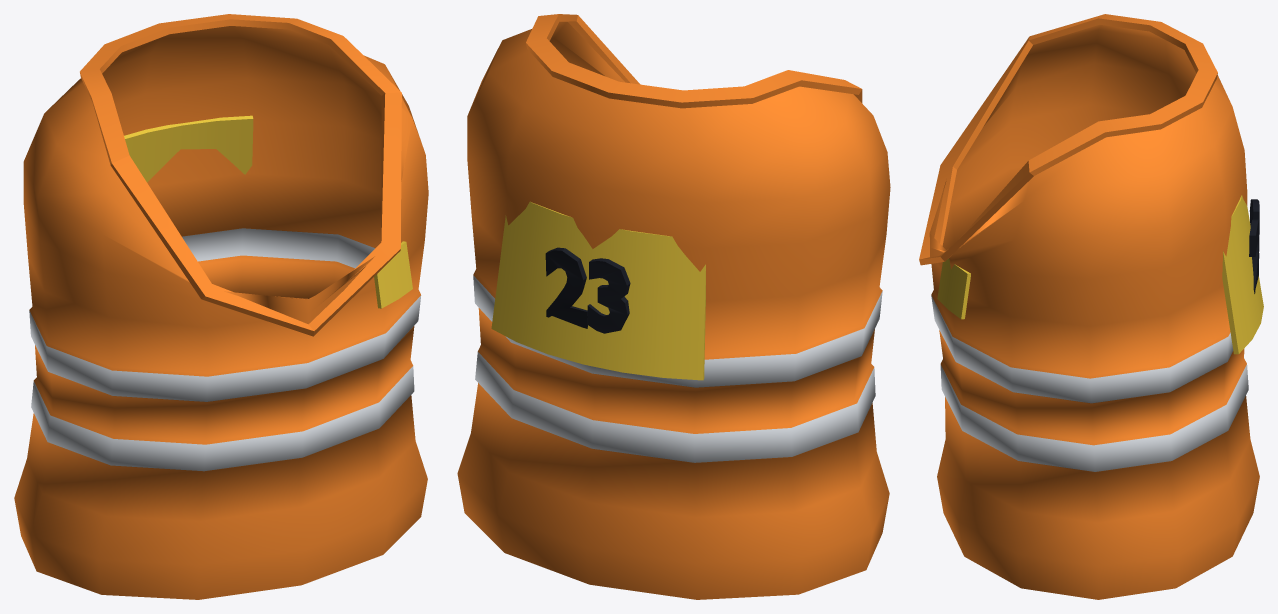
File: outfit_vest.glb
3 views of the same model, side by side, from view 1: azimuth 30°, elevation 25°; view 2: azimuth 150°, elevation 25°; view 3: azimuth 270°, elevation 25° (orthographic). The views are drawn at different scales.
Parts seen in each view (by area): view 1: outfit_vest; view 2: outfit_vest; view 3: outfit_vest.
Boxes of the visible parts, x1=… form: outfit_vest: x1=14, y1=14, x2=428, y2=599; outfit_vest: x1=457, y1=14, x2=890, y2=599; outfit_vest: x1=919, y1=14, x2=1263, y2=599.
Bounding box in the file's own units: 0.388 × 0.4486 × 0.3161.
